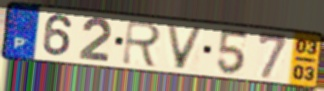2: (77, 16, 115, 65)
5: (214, 27, 251, 78)
6: (41, 13, 74, 58)
7: (256, 30, 289, 81)
R: (120, 19, 164, 70)
V: (164, 23, 206, 71)
